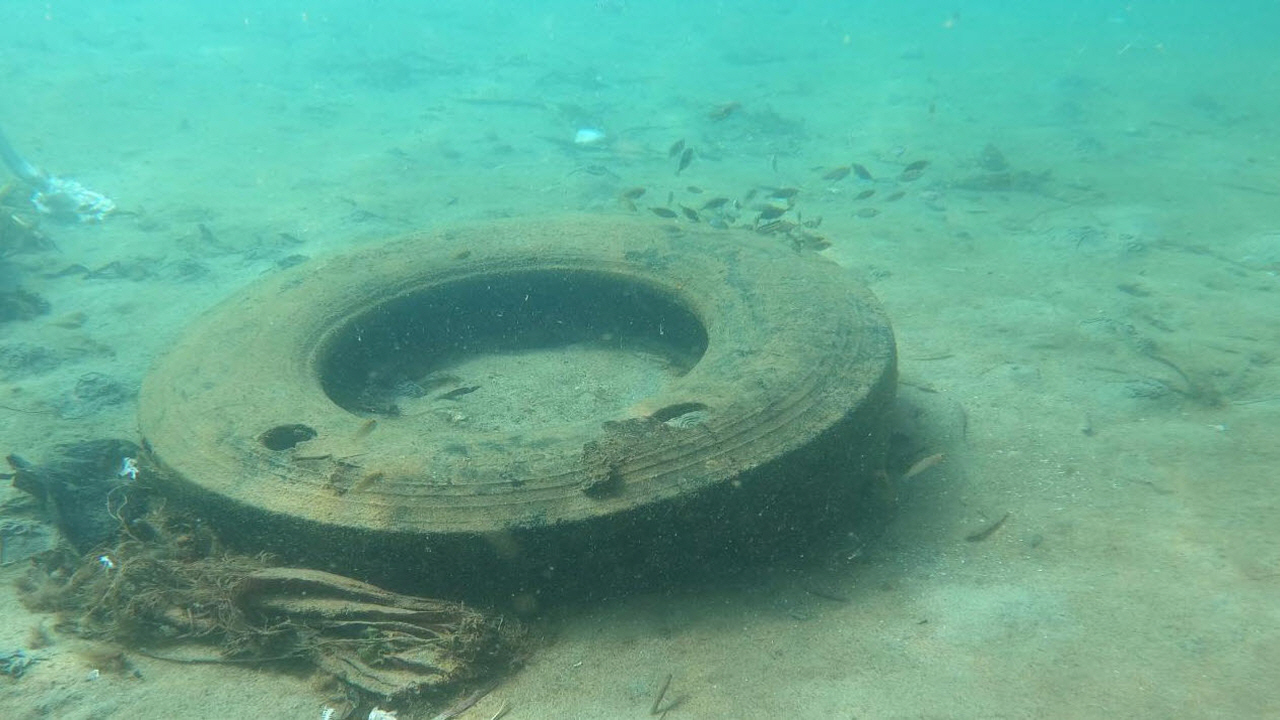tire: (136, 212, 901, 598)
